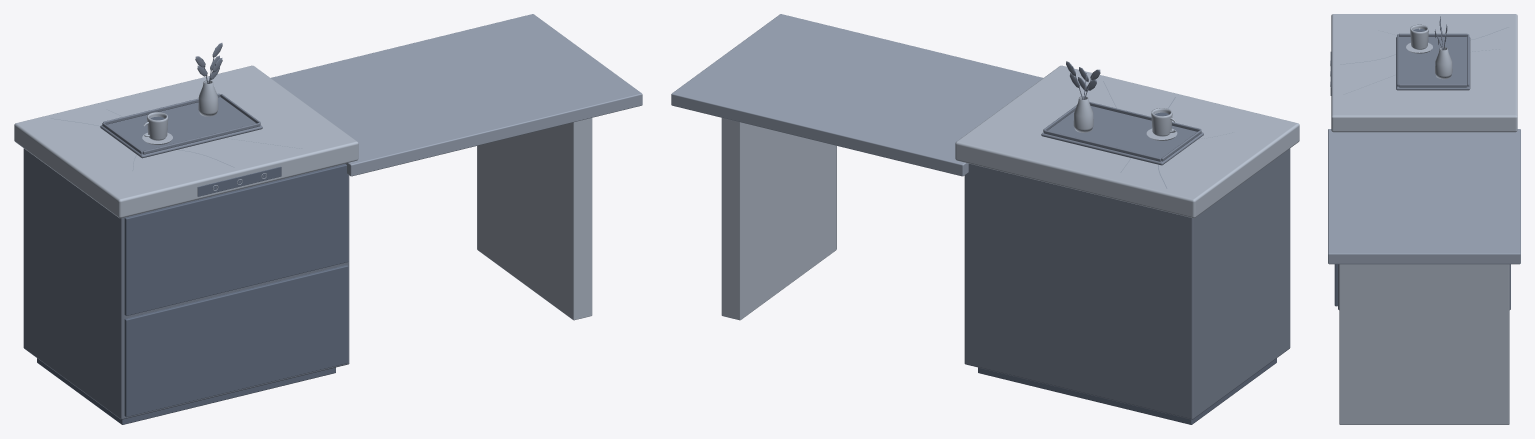
File: kitchen-island.glb
3 views of the same model, side by side, from view 1: azimuth 30°, elevation 25°; view 2: azimuth 150°, elevation 25°; view 3: azimuth 270°, elevation 25° (orthographic). The views are drawn at different scales.
Visible parts, largest first — view 1: kitchen-island-front, kitchen-island-stone, kitchen-island-top, kitchen-island-case, kitchen-island-detail; view 2: kitchen-island-case, kitchen-island-stone, kitchen-island-top, kitchen-island-front; view 3: kitchen-island-stone, kitchen-island-top, kitchen-island-case.
Part boxes in pixels (x1=…): kitchen-island-front: x1=37, y1=164, x2=348, y2=424; kitchen-island-stone: x1=14, y1=65, x2=592, y2=320; kitchen-island-top: x1=271, y1=14, x2=642, y2=176; kitchen-island-case: x1=23, y1=93, x2=349, y2=419; kitchen-island-detail: x1=150, y1=116, x2=281, y2=196; kitchen-island-case: x1=964, y1=101, x2=1290, y2=419; kitchen-island-stone: x1=721, y1=65, x2=1299, y2=320; kitchen-island-top: x1=671, y1=14, x2=1042, y2=176; kitchen-island-front: x1=978, y1=358, x2=1276, y2=424; kitchen-island-stone: x1=1330, y1=14, x2=1517, y2=424; kitchen-island-top: x1=1328, y1=129, x2=1520, y2=264; kitchen-island-case: x1=1338, y1=33, x2=1510, y2=309.
Bounding box in the file's own units: 2.14 × 1.19 × 0.78.
